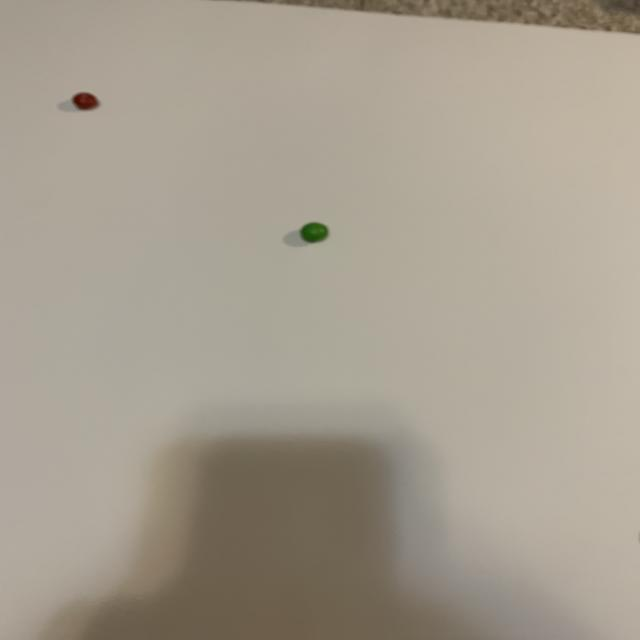smartie: (299, 222, 328, 242), (71, 92, 98, 109)
